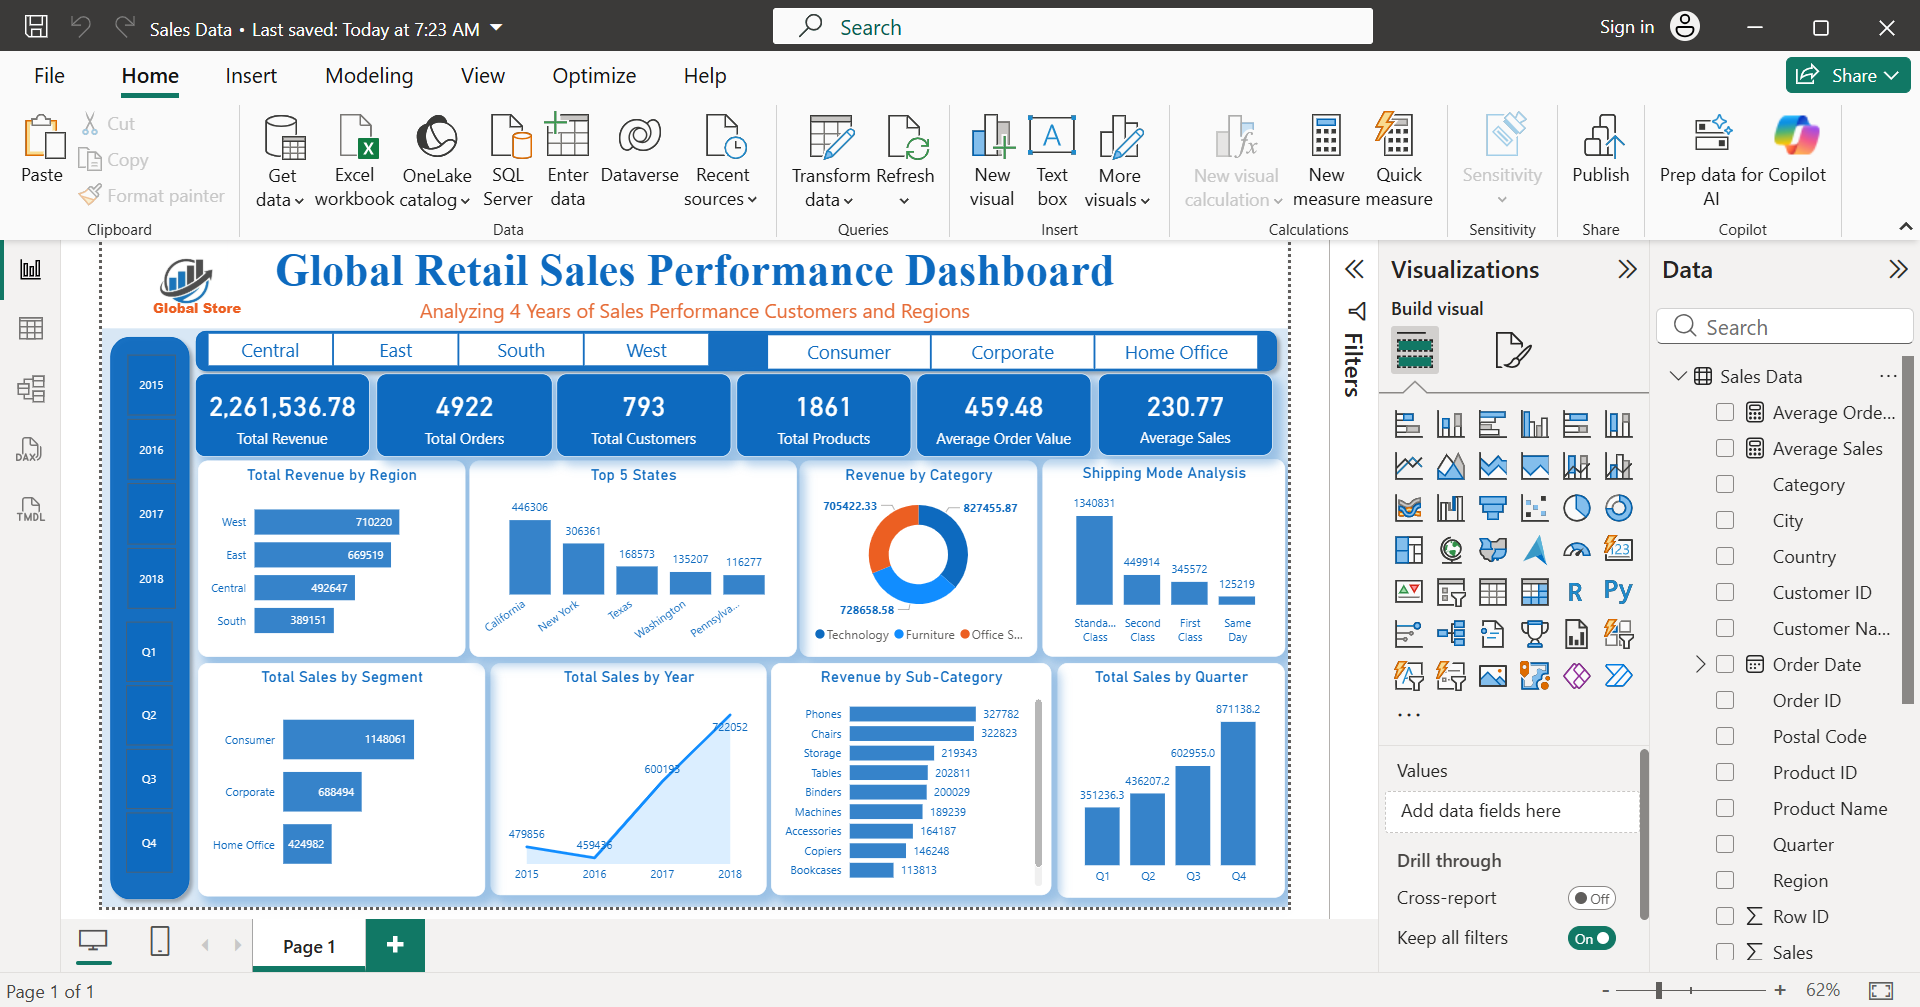

What the dashboard file says about the page in this screenshot:
{"tool":"powerbi","page":{"name":"Page 1","canvas":[1280,720],"ordinal":0},"visuals":[{"type":"textbox","box":[0,0,1280,95],"z":0},{"type":"image","box":[0,0,181.7,88.3],"z":1000},{"type":"shape","box":[0,95,103.3,625],"z":2000},{"type":"shape","box":[91.7,88.3,1185,61.7],"z":3000},{"type":"slicer","fields":{"Values":["Sales Data.Region"]},"box":[89.2,94.6,589.4,47],"z":4000},{"type":"card","fields":{"Values":["Sales Data.Total Revenue"]},"box":[101.1,143.3,188.3,90],"z":5000},{"type":"lineChart","title":"Total Sales by Year","fields":{"Category":["Sales Data.Year"],"Y":["Sum(Sales Data.Sales)"]},"box":[419.4,456.6,297.9,251],"z":6000},{"type":"clusteredBarChart","fields":{"Category":["Sales Data.Region"],"Y":["Sales Data.Total Revenue"]},"box":[103.3,238.3,288.3,211.7],"z":7000},{"type":"donutChart","title":"Revenue by Category","fields":{"Category":["Sales Data.Category"],"Y":["Sales Data.Total Revenue"]},"box":[753.3,238.3,256.7,211.7],"z":8000},{"type":"barChart","title":"Total Sales by Segment","fields":{"Category":["Sales Data.Segment"],"Y":["Sum(Sales Data.Sales)"]},"box":[103.3,456.7,310,251.7],"z":9000},{"type":"clusteredColumnChart","title":"Shipping Mode Analysis","fields":{"Category":["Sales Data.Ship Mode"],"Y":["Sum(Sales Data.Sales)"]},"box":[1015,236.7,261.7,213.3],"z":10000},{"type":"columnChart","title":"Total Sales by Quarter","fields":{"Category":["Sales Data.Quarter"],"Y":["Sum(Sales Data.Sales)"]},"box":[1031.7,456.7,245,253.3],"z":11000},{"type":"textbox","box":[25,58.3,156.7,30],"z":12000},{"type":"slicer","fields":{"Values":["Sales Data.Year"]},"box":[1.7,116.7,101.7,288.3],"z":13000},{"type":"slicer","fields":{"Values":["Sales Data.Quarter"]},"box":[0,405,100,285],"z":14000},{"type":"slicer","fields":{"Values":["Sales Data.Segment"]},"box":[693,95.5,578.1,50.2],"z":15000},{"type":"clusteredColumnChart","title":"Top 5 States","fields":{"Category":["Sales Data.State"],"Y":["Sum(Sales Data.Sales)"]},"box":[396.7,238.3,353.3,211.7],"z":16000},{"type":"barChart","title":"Revenue by Sub-Category","fields":{"Category":["Sales Data.Sub-Category"],"Y":["Sum(Sales Data.Sales)"]},"box":[722.2,456.6,302.8,251],"z":17000},{"type":"card","fields":{"Values":["Sales Data.Total Orders"]},"box":[296.1,143.3,190,90],"z":18000},{"type":"card","fields":{"Values":["Sales Data.Total Customers"]},"box":[491.1,143.3,188.3,90],"z":19000},{"type":"card","fields":{"Values":["Sales Data.Total Products"]},"box":[684.4,143.3,188.3,90],"z":20000},{"type":"card","fields":{"Values":["Sales Data.Average Order Value"]},"box":[879.4,143.3,188.3,90],"z":21000},{"type":"card","fields":{"Values":["Sales Data.Average Sales"]},"box":[1074.4,143.3,188.3,88.3],"z":22000}]}

Visuals, with their boxes on the page's 1280x720 design canvas (x1, y1, x2, y2). These are canvas units, not pixel positions in the 1920x1007 screenshot, which may show the page scaled, cropped or inside an application window:
textbox: Rect(0, 0, 1280, 95)
image: Rect(0, 0, 182, 88)
shape: Rect(0, 95, 103, 720)
shape: Rect(92, 88, 1277, 150)
slicer - Sales Data.Region: Rect(89, 95, 679, 142)
card - Sales Data.Total Revenue: Rect(101, 143, 289, 233)
"Total Sales by Year" lineChart: Rect(419, 457, 717, 708)
clusteredBarChart - Sales Data.Region x Sales Data.Total Revenue: Rect(103, 238, 392, 450)
"Revenue by Category" donutChart: Rect(753, 238, 1010, 450)
"Total Sales by Segment" barChart: Rect(103, 457, 413, 708)
"Shipping Mode Analysis" clusteredColumnChart: Rect(1015, 237, 1277, 450)
"Total Sales by Quarter" columnChart: Rect(1032, 457, 1277, 710)
textbox: Rect(25, 58, 182, 88)
slicer - Sales Data.Year: Rect(2, 117, 103, 405)
slicer - Sales Data.Quarter: Rect(0, 405, 100, 690)
slicer - Sales Data.Segment: Rect(693, 96, 1271, 146)
"Top 5 States" clusteredColumnChart: Rect(397, 238, 750, 450)
"Revenue by Sub-Category" barChart: Rect(722, 457, 1025, 708)
card - Sales Data.Total Orders: Rect(296, 143, 486, 233)
card - Sales Data.Total Customers: Rect(491, 143, 679, 233)
card - Sales Data.Total Products: Rect(684, 143, 873, 233)
card - Sales Data.Average Order Value: Rect(879, 143, 1068, 233)
card - Sales Data.Average Sales: Rect(1074, 143, 1263, 232)
